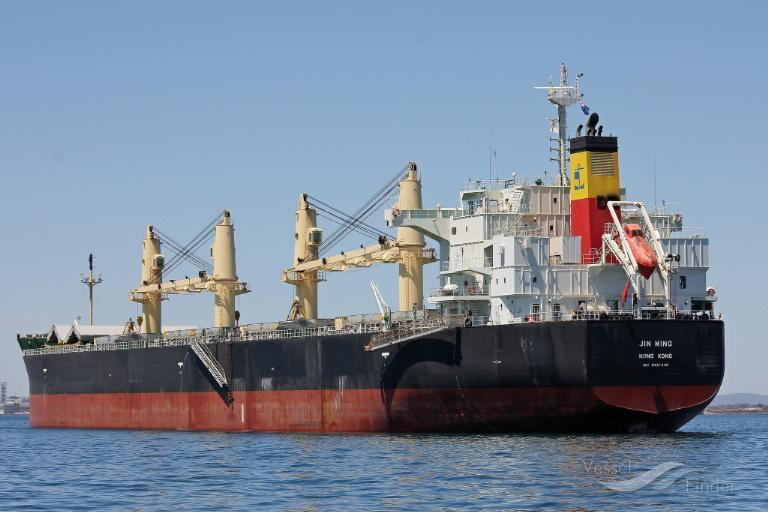OCR: (632, 334, 680, 372)
